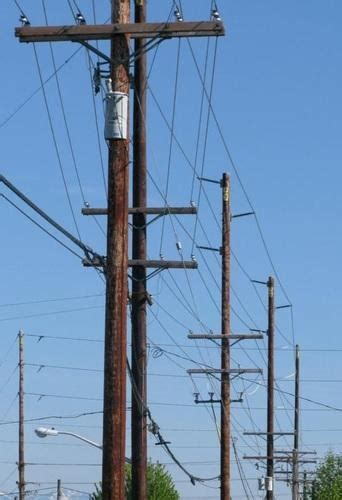pole: (188, 164, 261, 500)
